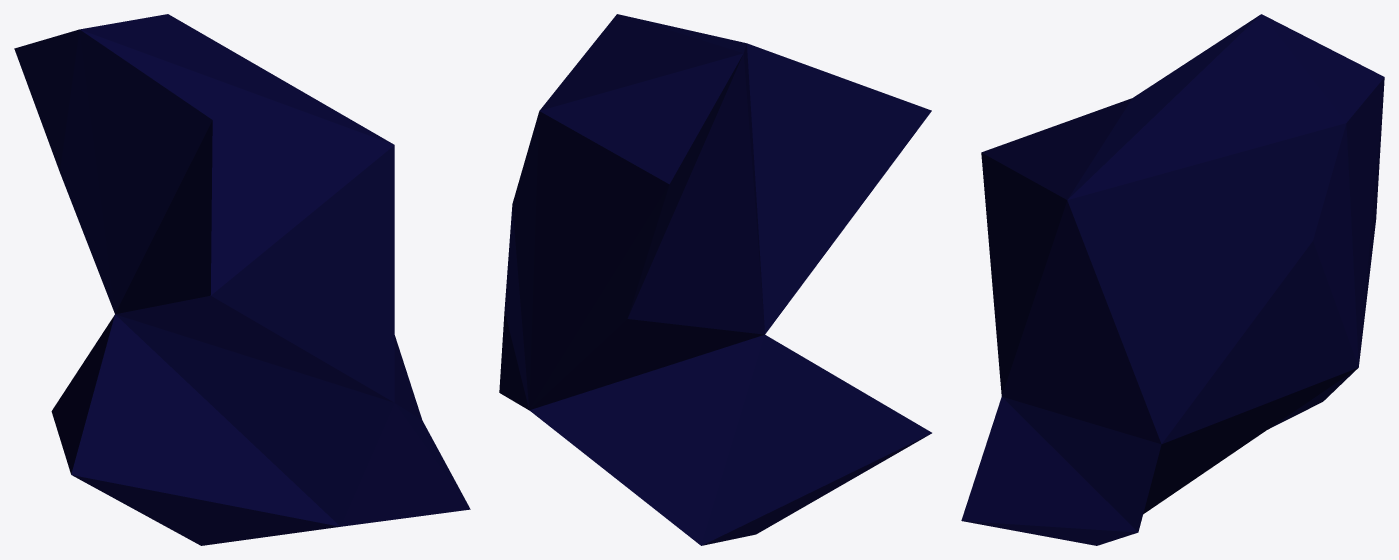
Rendered from Beehive.dae.
The picture shows the model from 3 angles, left to right: view 1: azimuth 30°, elevation 25°; view 2: azimuth 150°, elevation 25°; view 3: azimuth 270°, elevation 25°; orthographic projection. The views are drawn at different scales.
Parts seen in each view (by area): view 1: BlackBeehive; view 2: BlackBeehive; view 3: BlackBeehive.
Part boxes in pixels (x1,y1,x2,y2): BlackBeehive: [14, 14, 470, 545]; BlackBeehive: [499, 14, 931, 545]; BlackBeehive: [961, 14, 1384, 545].
Size of the model in its own units: 4.43 by 4.7 by 5.59.
